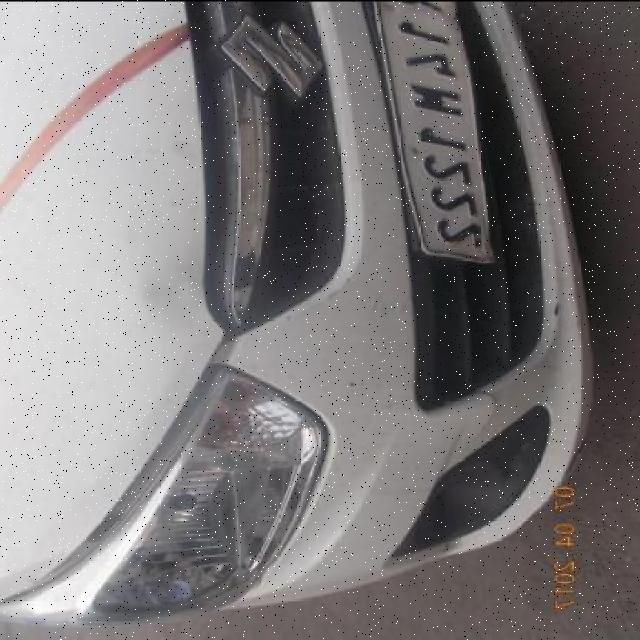damage: (131, 267, 206, 324), (465, 387, 503, 451)
